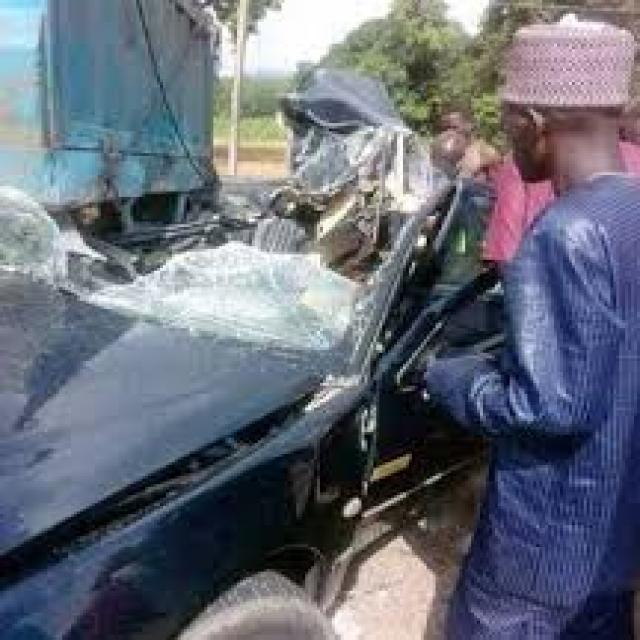accident: (10, 31, 494, 603)
